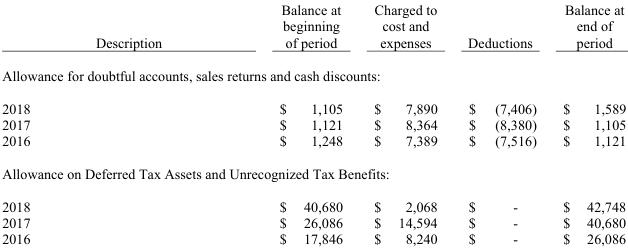table: (1, 1, 625, 246)
table column: (1, 1, 219, 246), (219, 1, 357, 246), (451, 1, 549, 246), (357, 1, 451, 246), (549, 1, 625, 246)
table column header: (1, 1, 625, 58)
table projected row header: (1, 58, 625, 91), (1, 156, 625, 189)
table row: (1, 1, 625, 58), (1, 58, 625, 91), (1, 156, 625, 189), (1, 91, 625, 116), (1, 189, 625, 214), (1, 132, 625, 156), (1, 116, 625, 132), (1, 214, 625, 230), (1, 230, 625, 246)
